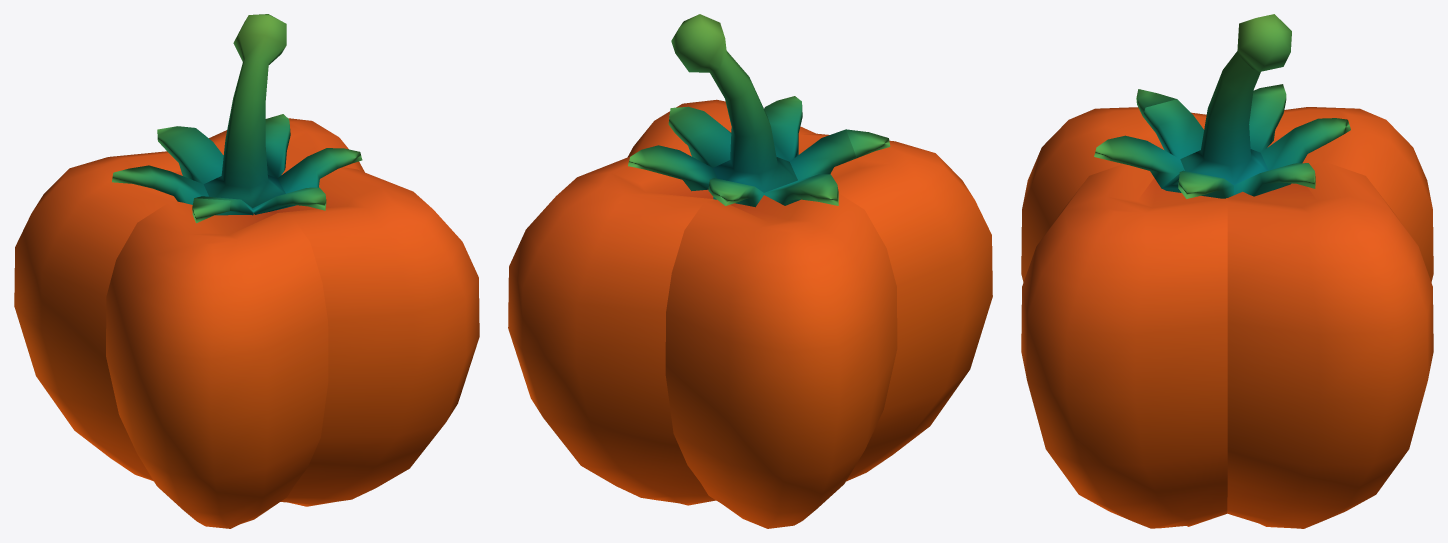
Rendered from pepper_002.fbx.
3 renders of one model, left to right at view 1: azimuth 30°, elevation 25°; view 2: azimuth 150°, elevation 25°; view 3: azimuth 270°, elevation 25°, orthographic. The views are drawn at different scales.
Visible parts, largest first — view 1: pepper_002; view 2: pepper_002; view 3: pepper_002.
Boxes of the visible parts, x1,y1,x2,y2 form: pepper_002: (14,14,479,528); pepper_002: (508,14,992,528); pepper_002: (1021,14,1433,528).
Bounding box in the file's own units: 9.1 × 9.1 × 12.2.
